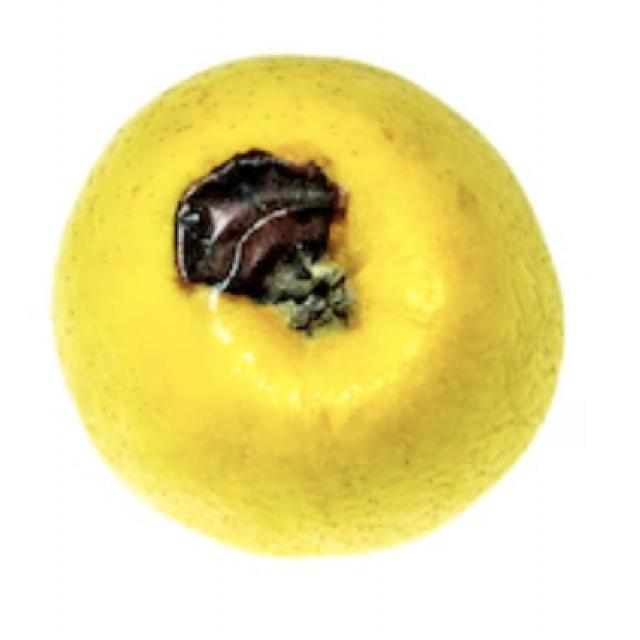rotten_apple: (53, 54, 567, 565)
